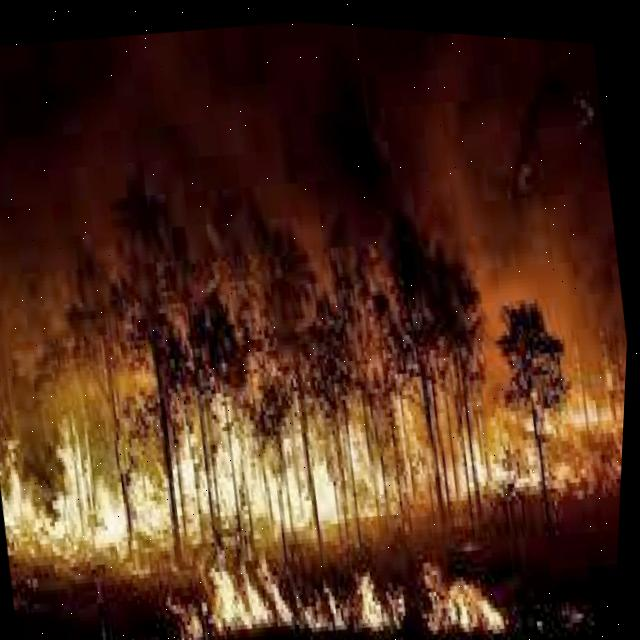fire: (0, 376, 590, 580), (176, 538, 514, 640)
smoke: (547, 164, 630, 368)
